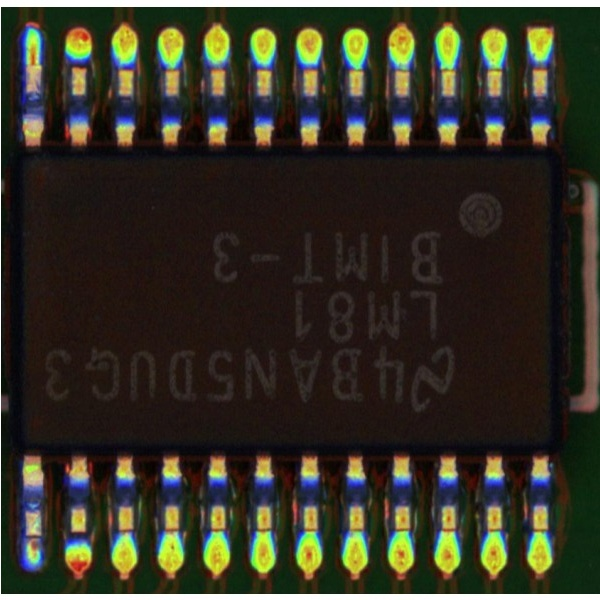Bad_podu: (25, 523, 36, 552), (26, 51, 36, 77)
